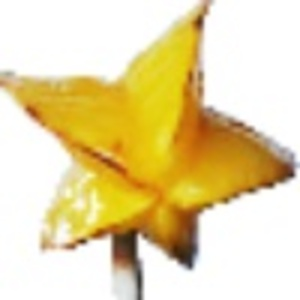carambola: (1, 1, 300, 289)
